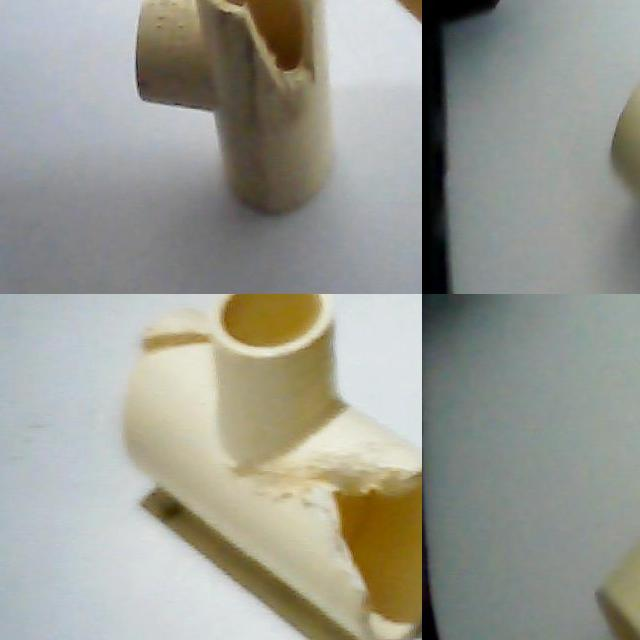Defective: (249, 450, 401, 614), (334, 492, 422, 625), (242, 0, 329, 93), (144, 306, 210, 388)
T Joint: (129, 294, 422, 640), (135, 0, 337, 218)
